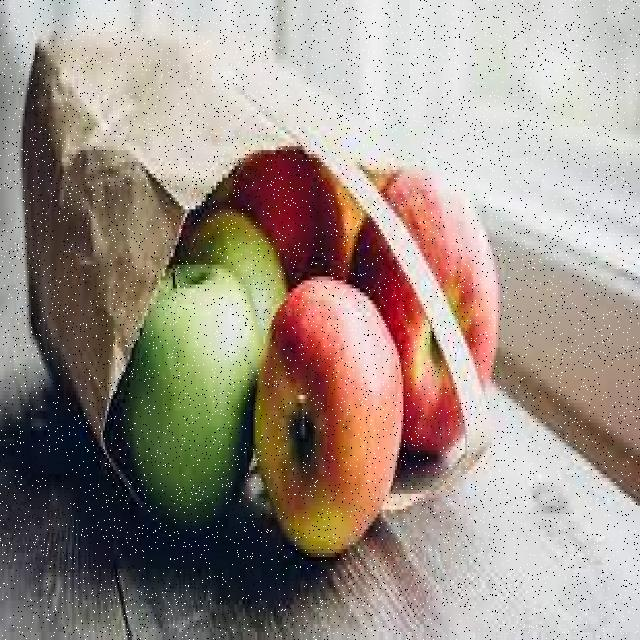Apple: (360, 178, 492, 455), (131, 267, 251, 515), (258, 326, 395, 542), (184, 205, 289, 318)
